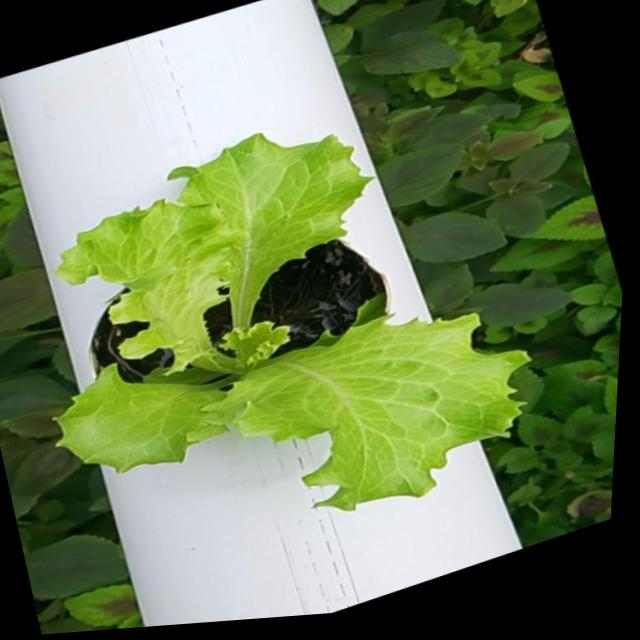Baby: (37, 146, 502, 515)
